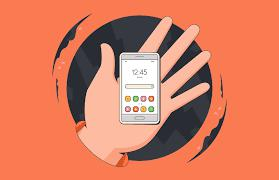Hand: (87, 17, 212, 150)
Smartphone: (119, 52, 162, 125)
